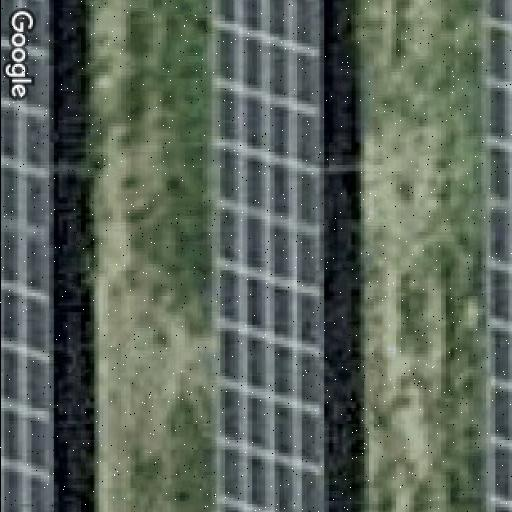solar-panel: (203, 0, 328, 512), (0, 0, 56, 512), (482, 0, 512, 512)
